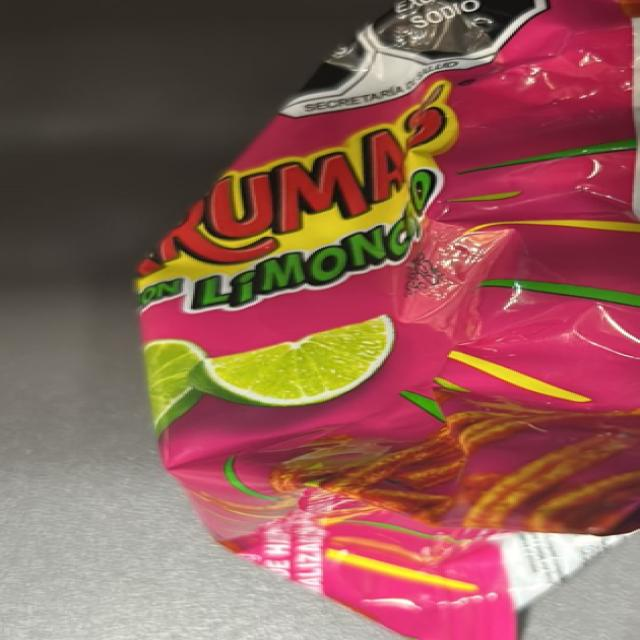churrumais: (146, 119, 634, 558)
